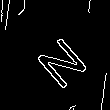N_NW: (23, 23, 87, 87)
